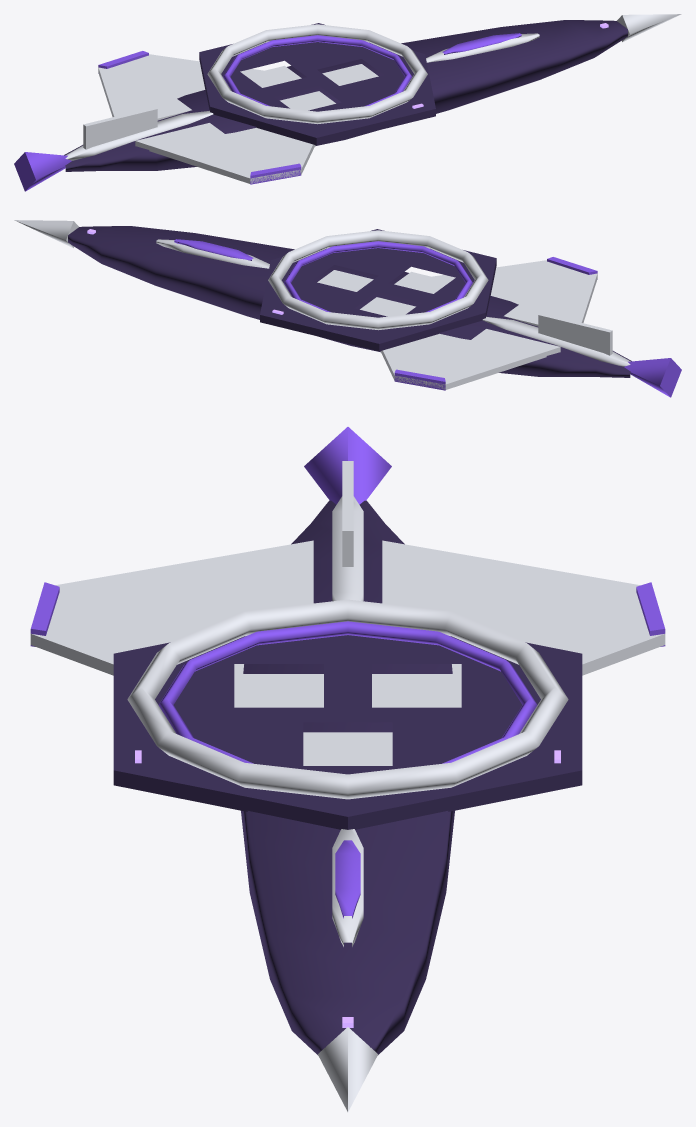
File: antiphon-hadron.glb
The picture shows the model from 3 angles, top to bottom: view 1: azimuth 30°, elevation 25°; view 2: azimuth 150°, elevation 25°; view 3: azimuth 270°, elevation 25°; orthographic projection. The views are drawn at different scales.
Visible parts, largest first — view 1: blade_hull, landing_deck, guard_wing_s, resonator_ring, guard_wing_p, ring_inner, dorsal_fin, blade_spine_aft, drive_prism, bow_prism, blade_spine, bay_floor_p (+5 smaller); view 2: blade_hull, landing_deck, guard_wing_p, resonator_ring, guard_wing_s, ring_inner, dorsal_fin, blade_spine_aft, drive_prism, bow_prism, blade_spine, bay_floor_s (+5 smaller); view 3: landing_deck, blade_hull, resonator_ring, guard_wing_s, guard_wing_p, ring_inner, drive_prism, bay_floor_fwd, bay_floor_s, bay_floor_p, bow_prism, blade_spine_aft (+3 smaller).
Boxes of the visible parts, <box> form: blade_hull: <box>64,20,627,171</box>; landing_deck: <box>199,23,435,145</box>; guard_wing_s: <box>135,123,315,183</box>; resonator_ring: <box>207,24,427,124</box>; guard_wing_p: <box>98,54,263,120</box>; ring_inner: <box>223,35,411,106</box>; dorsal_fin: <box>83,107,157,149</box>; blade_spine_aft: <box>65,110,213,160</box>; drive_prism: <box>14,152,71,191</box>; bow_prism: <box>617,14,681,41</box>; blade_spine: <box>426,33,539,62</box>; bay_floor_p: <box>245,65,301,87</box>; blade_hull: <box>68,226,631,377</box>; landing_deck: <box>260,229,496,351</box>; guard_wing_p: <box>380,329,560,389</box>; resonator_ring: <box>268,230,488,330</box>; guard_wing_s: <box>432,260,597,326</box>; ring_inner: <box>284,241,472,312</box>; dorsal_fin: <box>538,313,612,355</box>; blade_spine_aft: <box>482,316,630,366</box>; drive_prism: <box>624,358,681,397</box>; bow_prism: <box>14,220,78,247</box>; blade_spine: <box>156,239,269,268</box>; bay_floor_s: <box>394,271,450,293</box>; landing_deck: <box>113,635,582,829</box>; blade_hull: <box>241,500,454,1054</box>; resonator_ring: <box>127,599,568,799</box>; guard_wing_s: <box>30,540,313,675</box>; guard_wing_p: <box>382,540,665,675</box>; ring_inner: <box>158,621,537,763</box>; drive_prism: <box>304,427,391,504</box>; bay_floor_fwd: <box>303,732,392,765</box>; bay_floor_s: <box>234,674,323,707</box>; bay_floor_p: <box>372,674,461,707</box>; bow_prism: <box>317,1027,378,1111</box>; blade_spine_aft: <box>332,496,363,601</box>.
Bounding box in the file's own units: 110 × 10.8 × 46.
